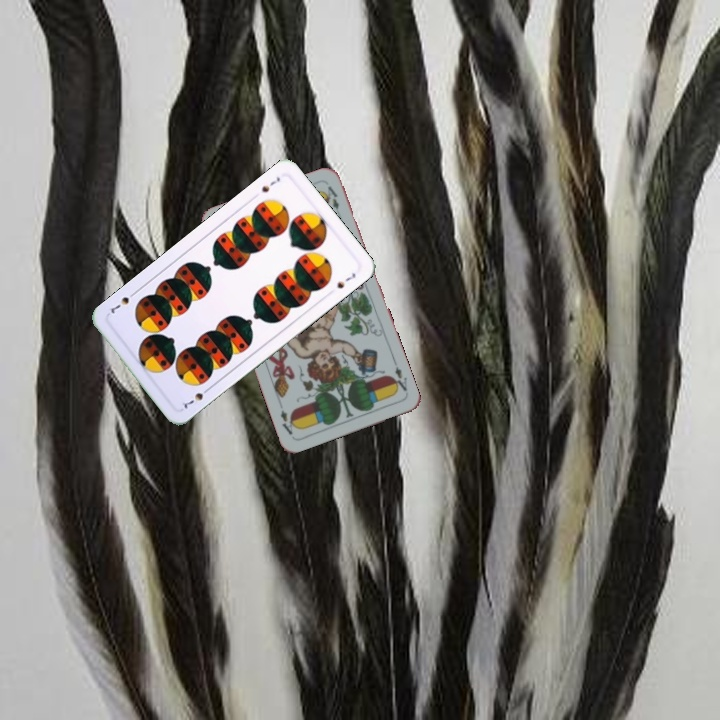EA: (387, 357, 410, 394)
S7: (178, 383, 213, 411), (258, 172, 283, 195)
